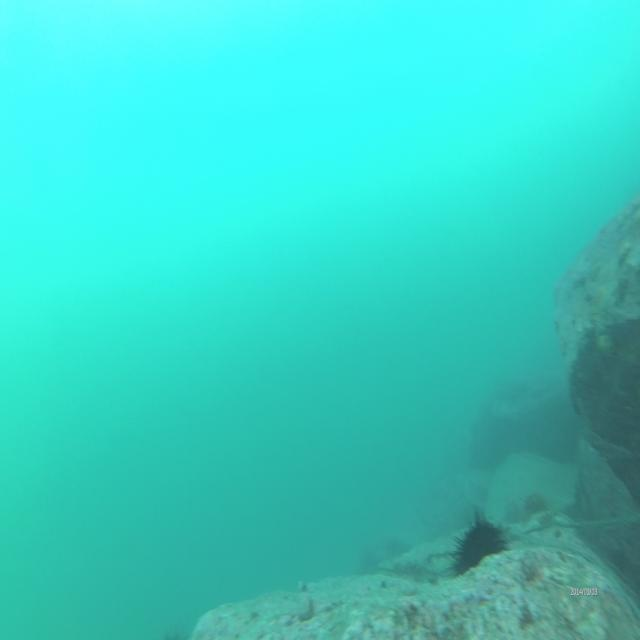echinus: (449, 506, 514, 580)
